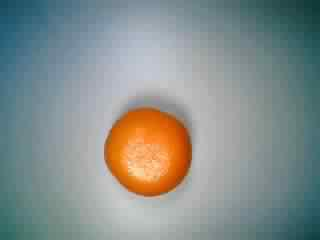orange: (99, 104, 192, 200)
